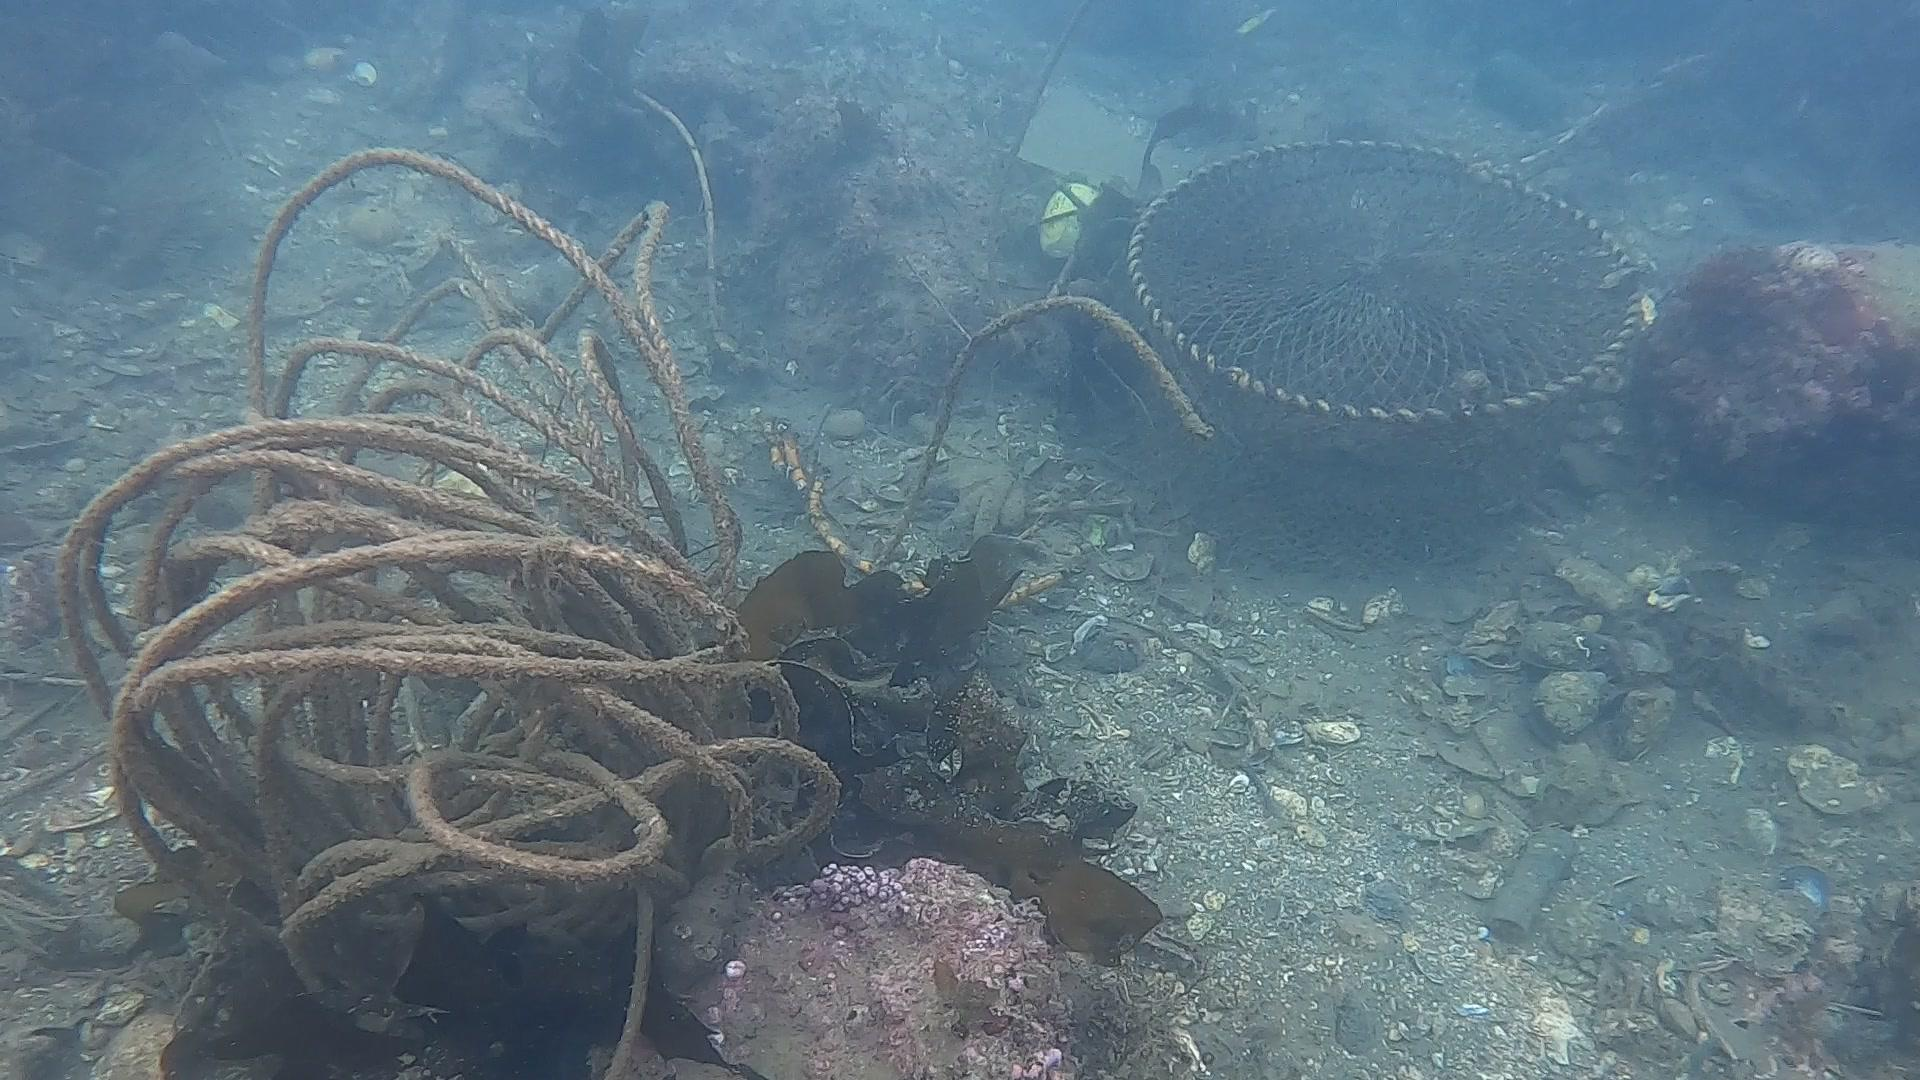bundle of ropes: (44, 140, 841, 1077)
circular fish trap: (1120, 129, 1662, 531)
rope: (761, 290, 1211, 576)
